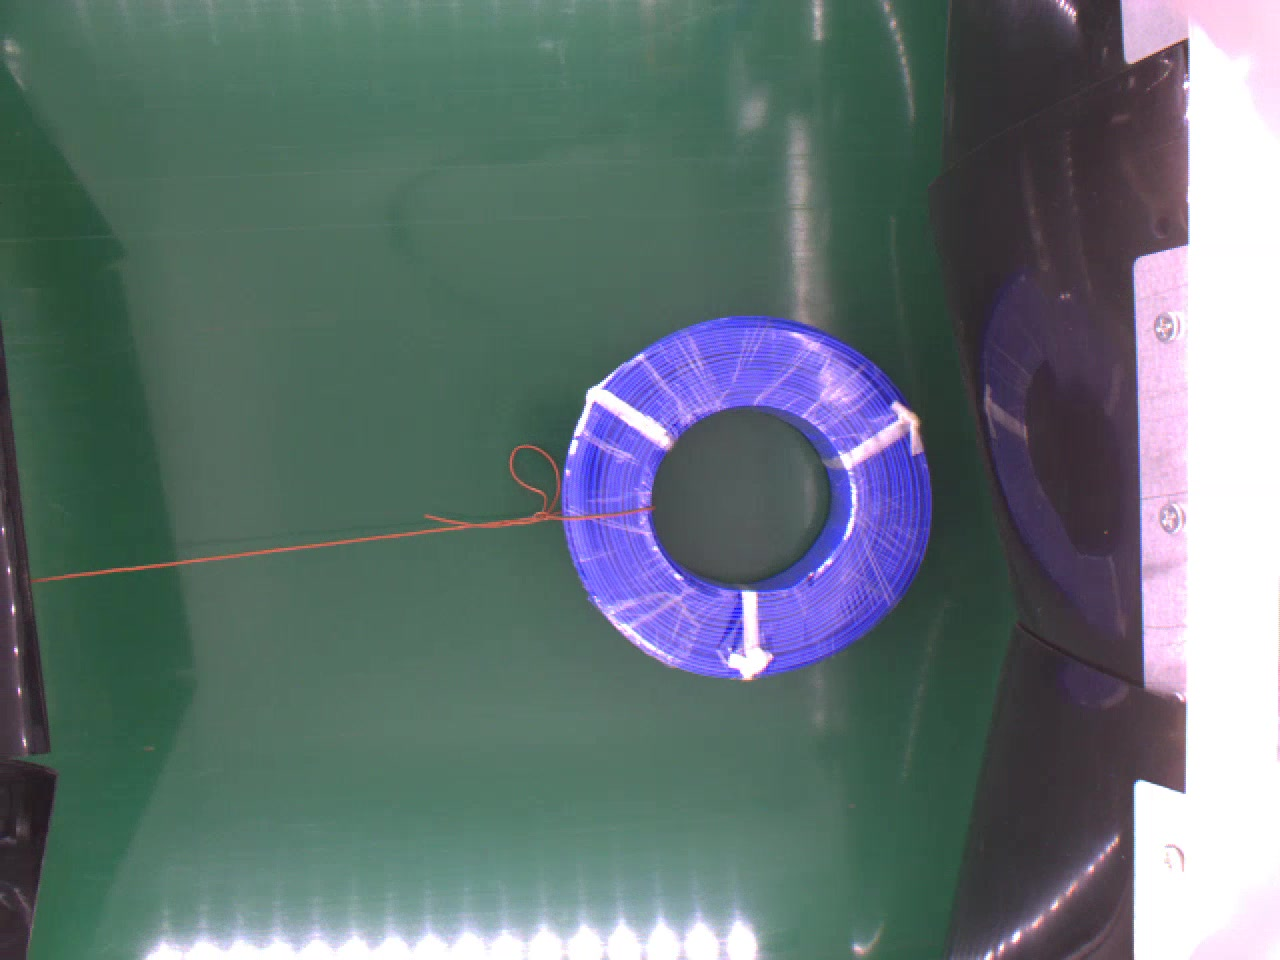blue: (557, 310, 929, 678)
